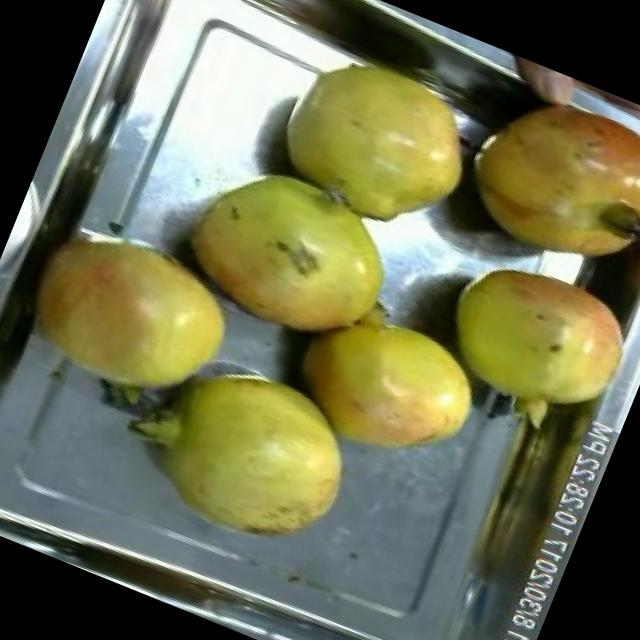fruit: (94, 321, 385, 580), (0, 191, 270, 454), (154, 132, 436, 376), (250, 25, 508, 267), (433, 52, 640, 314), (409, 224, 640, 454), (268, 272, 508, 490)
